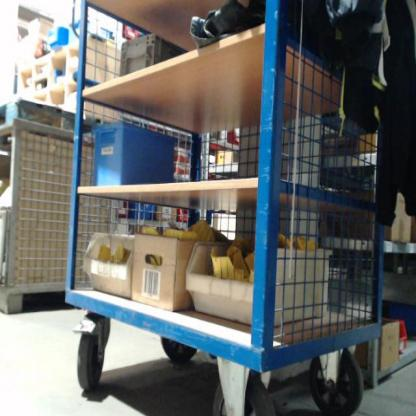small_load_carrier: (87, 120, 178, 194)
stillage: (1, 115, 129, 317)
